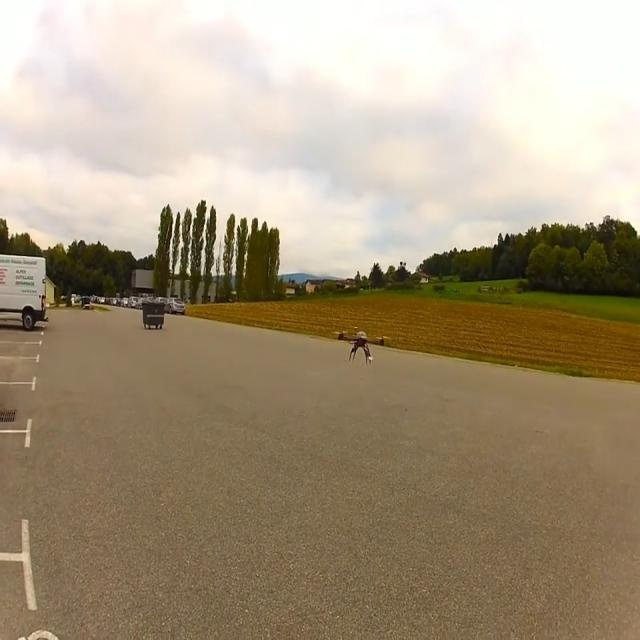drone: (331, 329, 390, 364)
